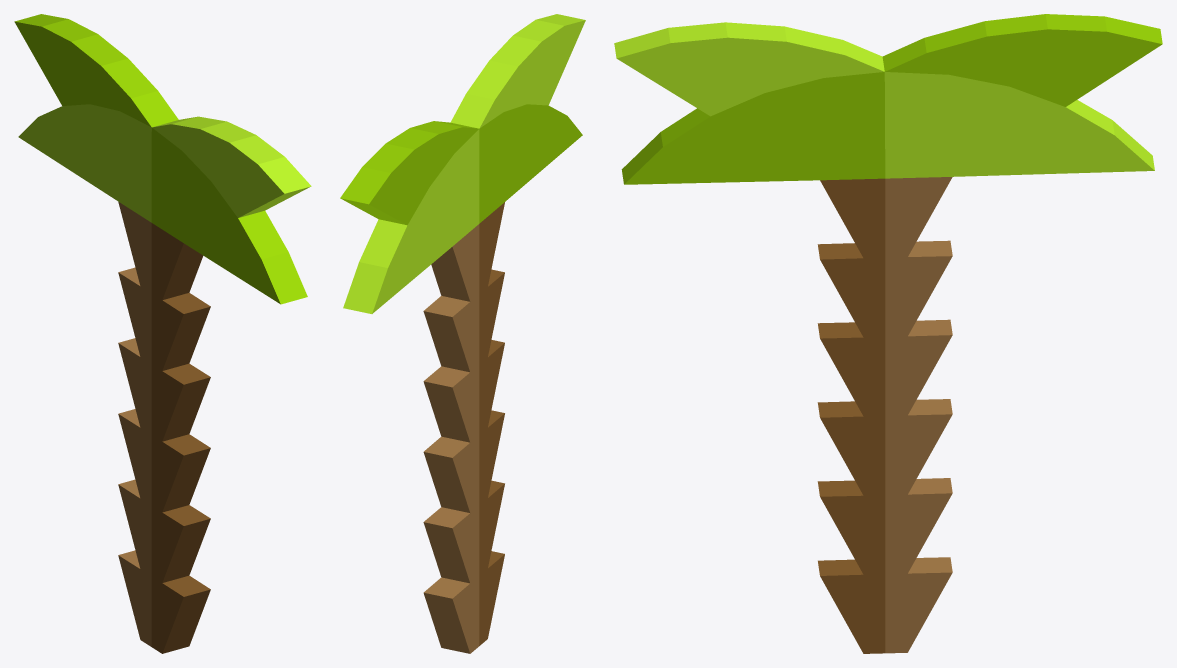
File: palm-big.fbx
3 views of the same model, side by side, from view 1: azimuth 30°, elevation 25°; view 2: azimuth 150°, elevation 25°; view 3: azimuth 270°, elevation 25° (orthographic). The views are drawn at different scales.
Parts seen in each view (by area): view 1: Plane; view 2: Plane; view 3: Plane.
Part boxes in pixels (x1,y1,x2,y2): Plane: (14,14,311,653); Plane: (340,14,585,653); Plane: (614,14,1162,653).
Bounding box in the file's own units: 4819 × 47012 × 37701.
